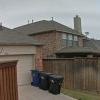Chimney: (70, 9, 85, 33)
